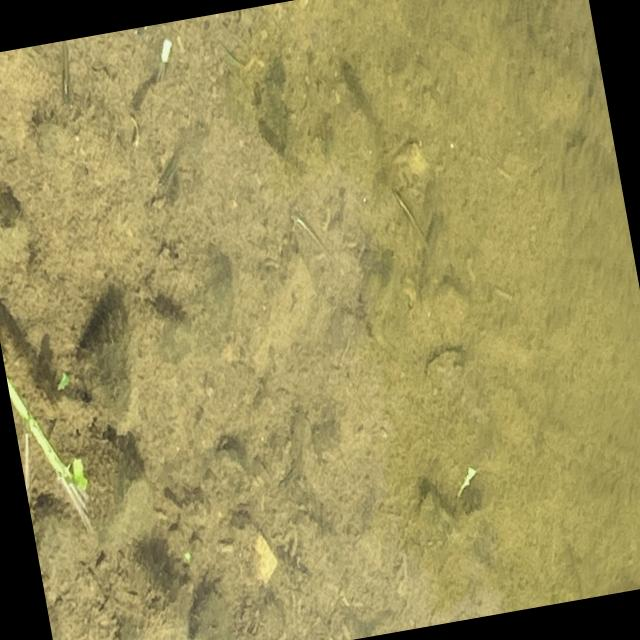Sivrisinek Baligi: (138, 138, 198, 212), (386, 184, 429, 253), (45, 40, 86, 110), (285, 200, 327, 258)
